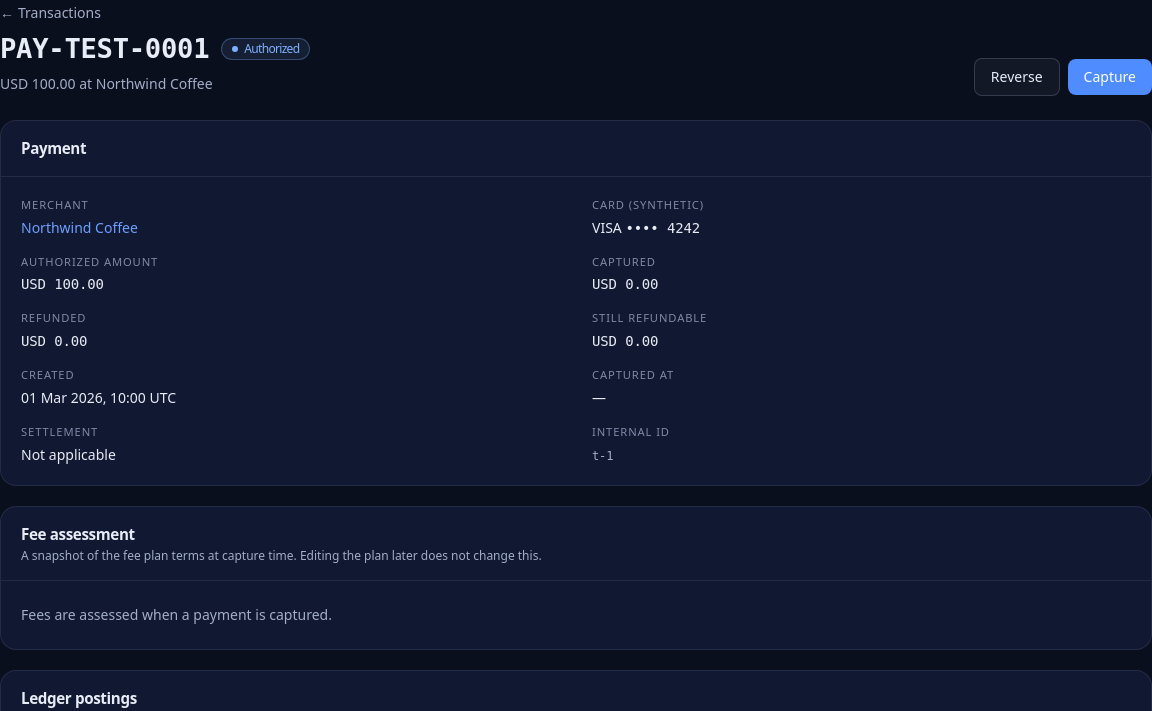
it: Transaction detail › offers capture and reverse for an authorized payment, and asks for confirmation
The image size is (1152, 711).
Later steps or results of the test are not shown.
Click the button "Capture" at (1110, 77), box [1068, 59, 1151, 95]
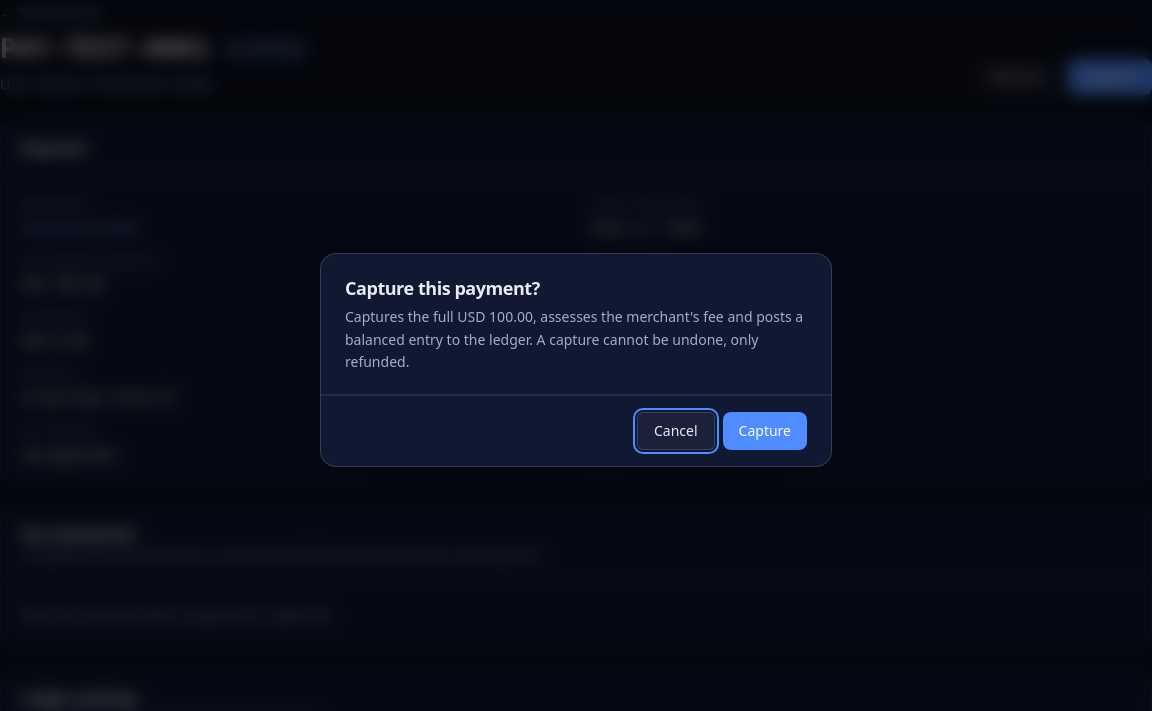
Expected: the heading "Capture this payment?" is shown, [345, 276, 540, 300]
